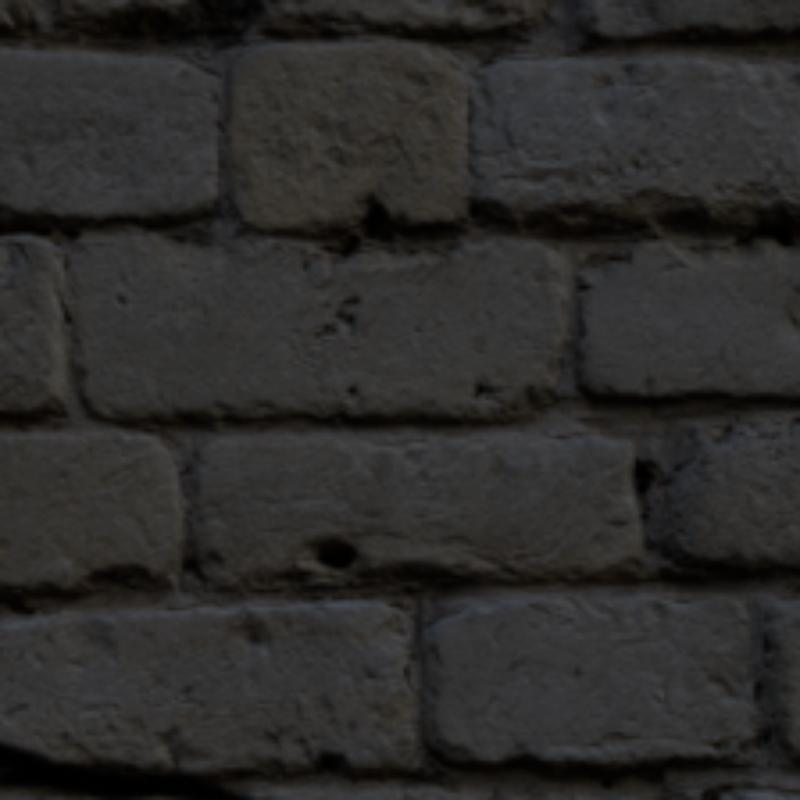pothole: (0, 743, 246, 796)
